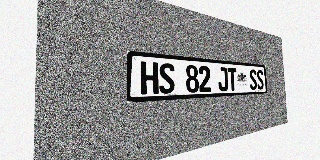2: (199, 65, 211, 92)
8: (185, 64, 199, 93)
H: (140, 61, 159, 95)
J: (217, 67, 228, 91)
S: (159, 63, 175, 94), (249, 69, 257, 90), (256, 70, 264, 90)
T: (227, 67, 237, 91)
